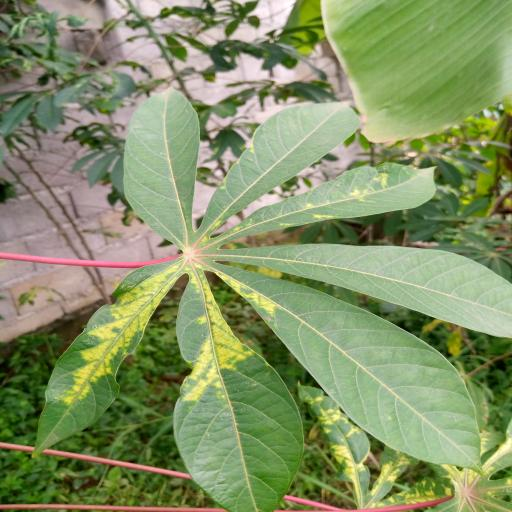Cassava_Mosaic: (27, 86, 512, 512)
